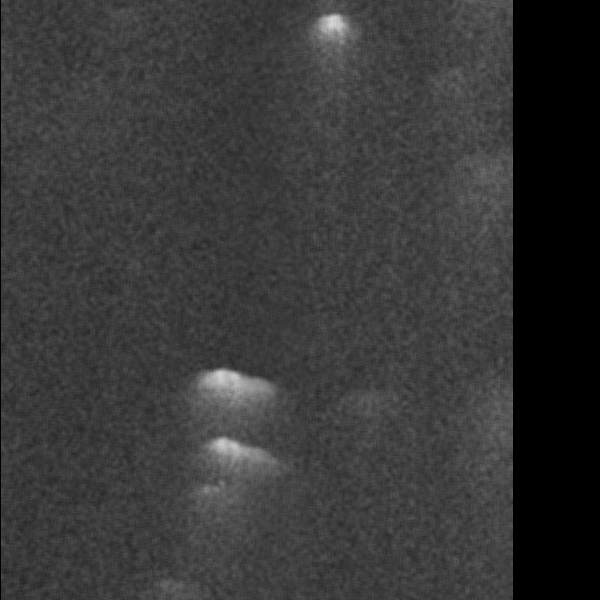spark: (133, 506, 188, 550), (416, 526, 464, 548), (153, 155, 171, 170)
